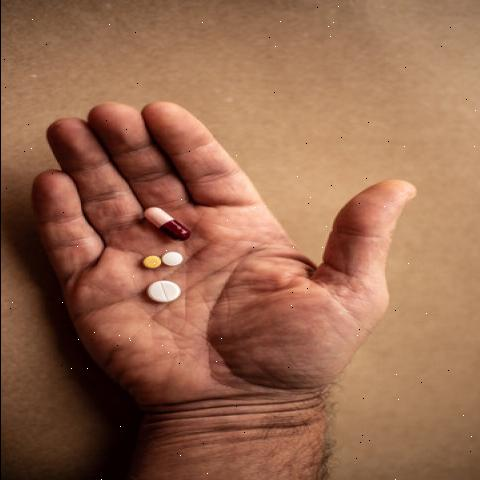Pill: (135, 275, 193, 314), (160, 246, 191, 276)
